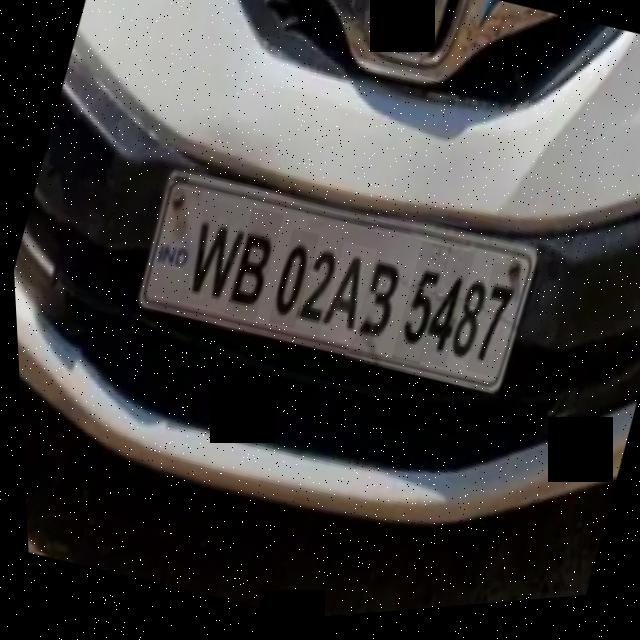0: (261, 232, 321, 335)
4: (411, 254, 476, 376)
5: (382, 247, 452, 374)
7: (456, 268, 527, 389)
8: (434, 266, 498, 383)
A: (310, 246, 378, 355)
B: (342, 241, 416, 357), (216, 210, 285, 328)
W: (171, 200, 253, 319)
